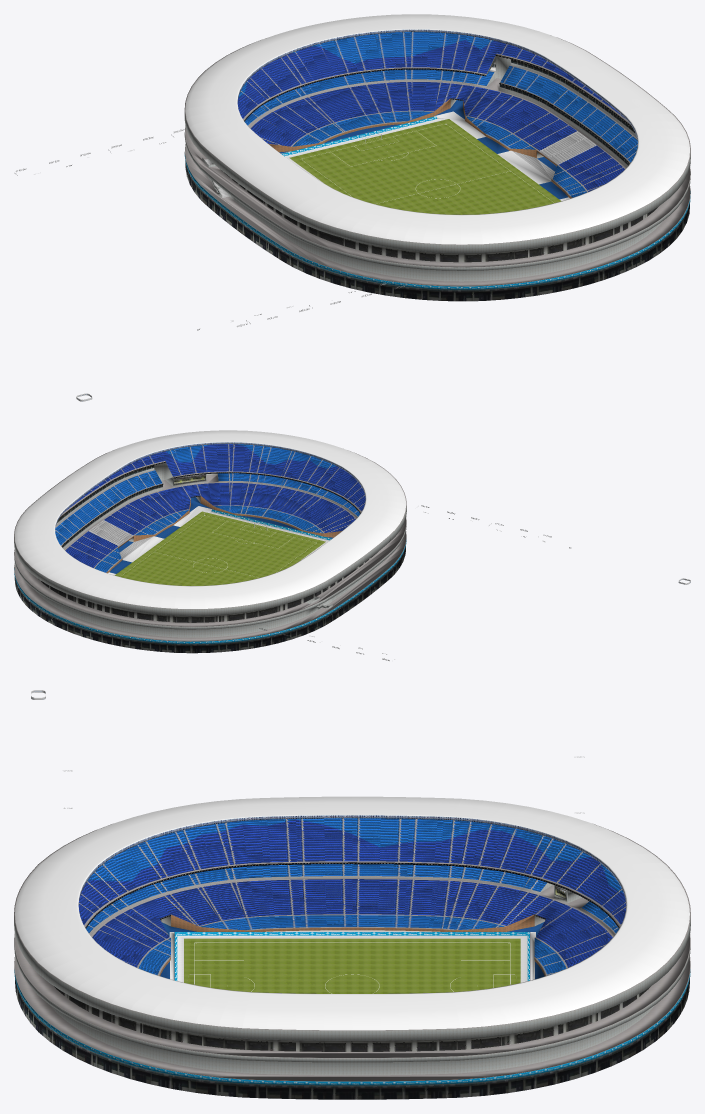
Rendered from stadium_v2.glb.
The picture shows the model from 3 angles, top to bottom: view 1: azimuth 30°, elevation 25°; view 2: azimuth 150°, elevation 25°; view 3: azimuth 270°, elevation 25°; orthographic projection. The views are drawn at different scales.
Parts seen in each view (by area): view 1: modern+stadium2; view 2: modern+stadium2; view 3: modern+stadium2.
Part boxes in pixels (bbox=[...]): modern+stadium2: bbox=[184, 14, 690, 301]; modern+stadium2: bbox=[14, 430, 406, 653]; modern+stadium2: bbox=[14, 796, 690, 1099].
Size of the model in its own units: 12610 by 1234 by 8853.
Materials: 45 (32 with a texture image).
